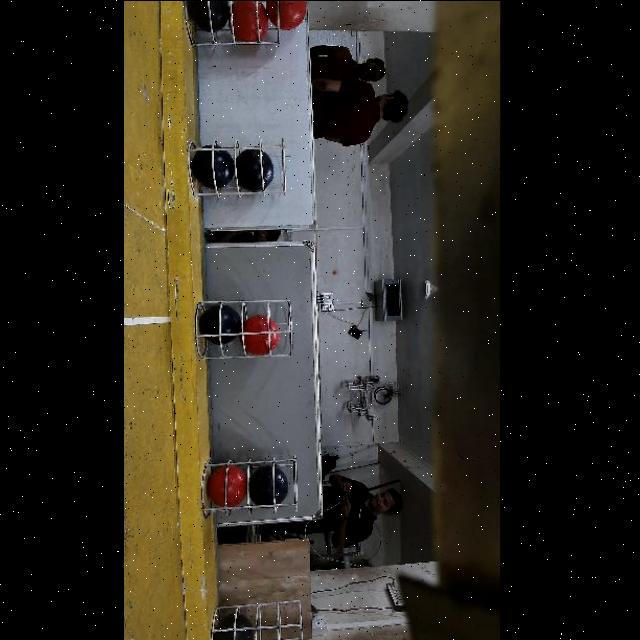P: (250, 468, 289, 511), (195, 145, 235, 186), (237, 149, 276, 191), (202, 305, 242, 344), (189, 0, 230, 32), (216, 612, 254, 640)
R: (208, 462, 248, 505), (240, 314, 280, 354), (230, 0, 269, 41), (267, 0, 306, 29)
S: (202, 453, 298, 519), (192, 139, 290, 199), (198, 302, 296, 362), (183, 0, 294, 48), (211, 600, 307, 640)
